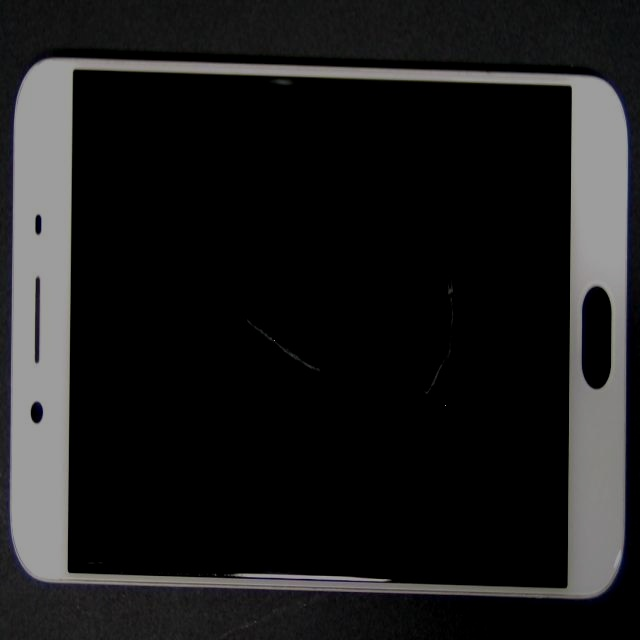scratch: (201, 198, 626, 616), (71, 163, 391, 556)
